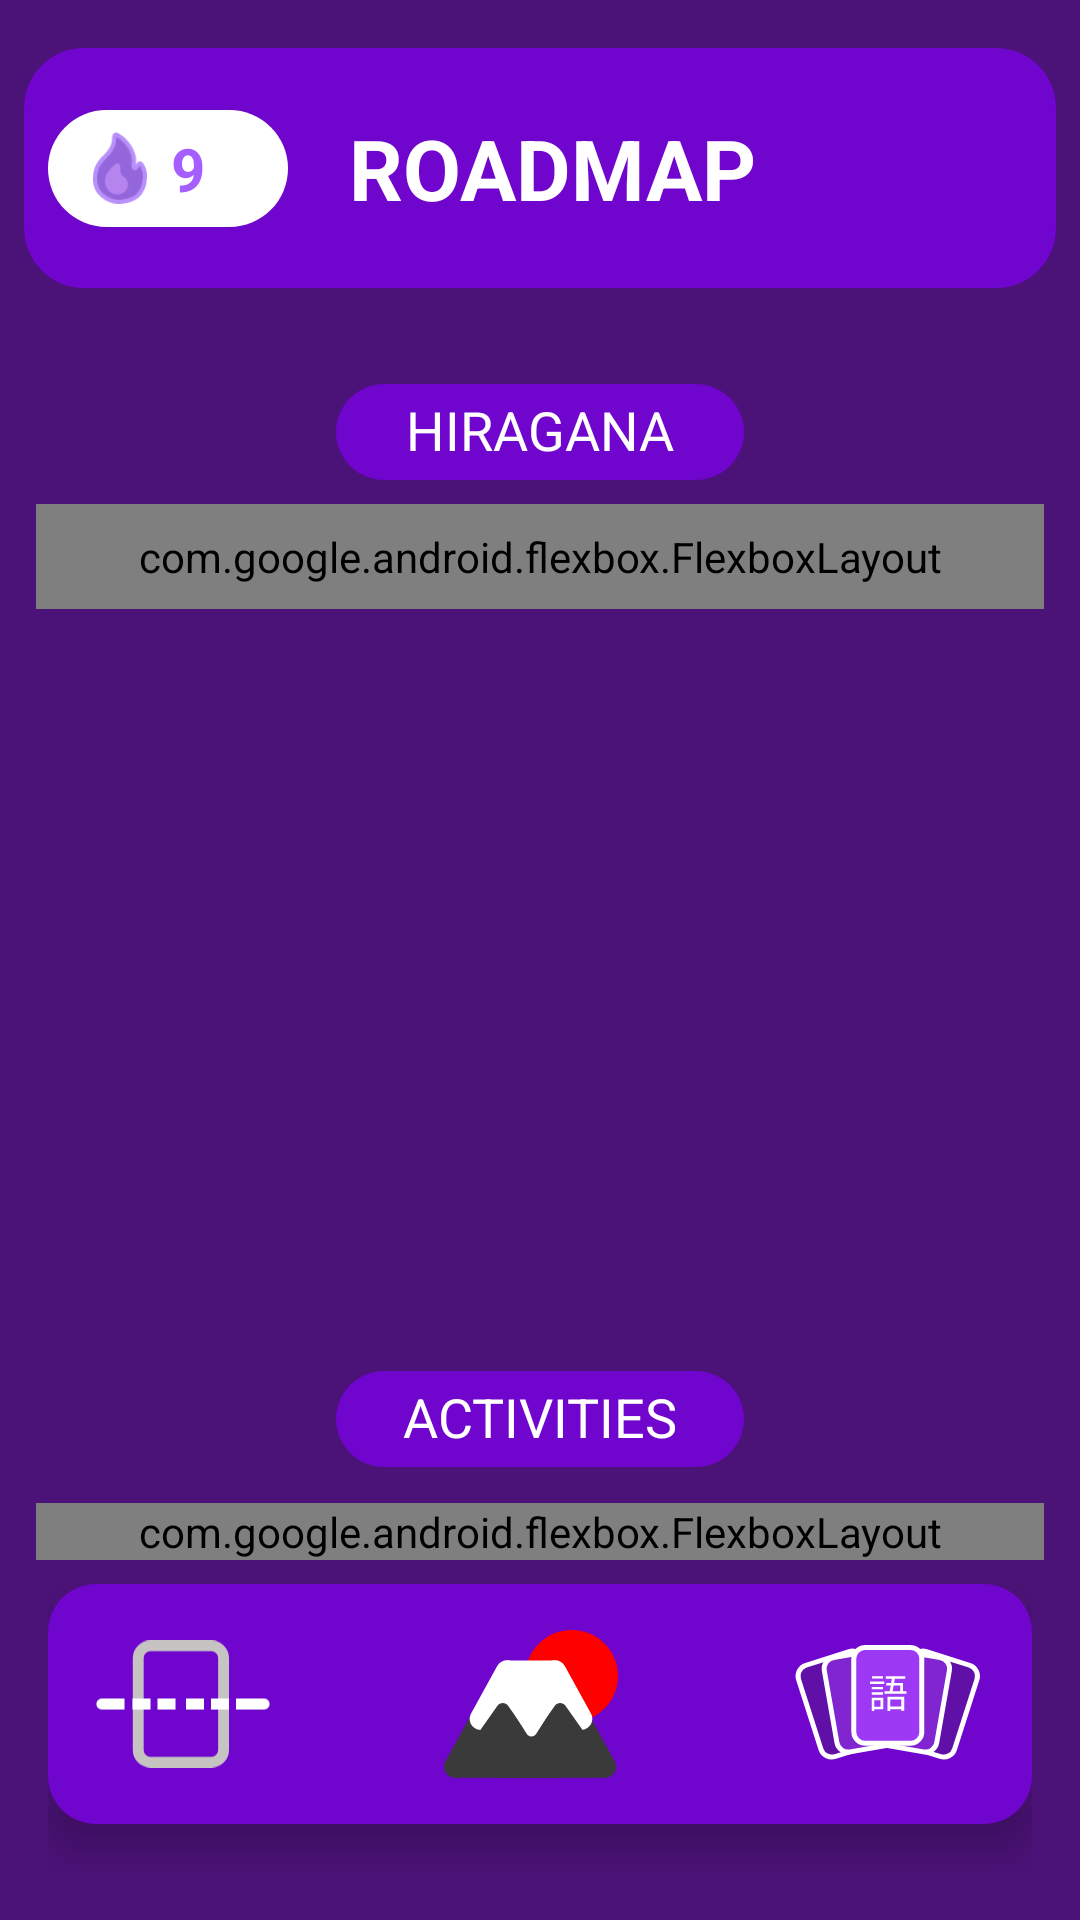

Icons on this 1080×1920 Android screen, each with the point to tap as point (x, y):
decks: point (887, 1702)
rmap streak: point (120, 168)
scan: point (183, 1704)
